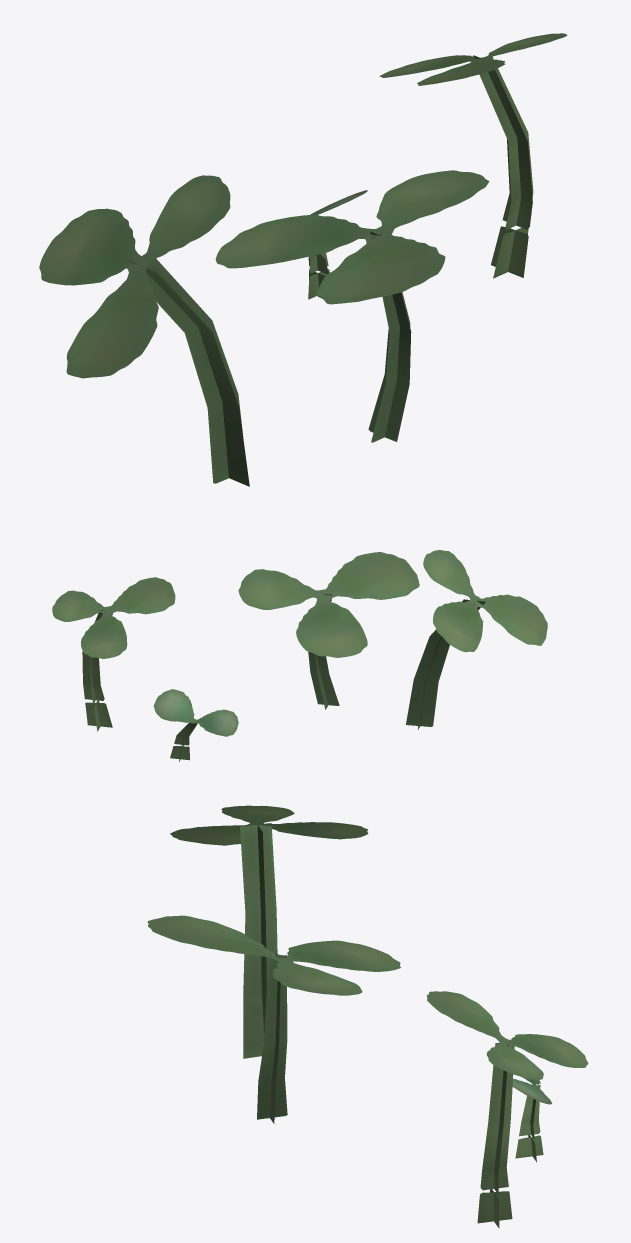
Rendered from pref_sm_beach_techclover02a_lv2.fbx.
3 renders of one model, top to bottom at view 1: azimuth 30°, elevation 25°; view 2: azimuth 150°, elevation 25°; view 3: azimuth 270°, elevation 25°, orthographic. The views are drawn at different scales.
Visible parts, largest first — view 1: pref_sm_beach_techclover02a_lv2; view 2: pref_sm_beach_techclover02a_lv2; view 3: pref_sm_beach_techclover02a_lv2.
Boxes of the visible parts, x1,y1,x2,y2 form: pref_sm_beach_techclover02a_lv2: (39, 33, 567, 486); pref_sm_beach_techclover02a_lv2: (52, 550, 547, 761); pref_sm_beach_techclover02a_lv2: (147, 805, 588, 1228).
Size of the model in its own units: 1.4 by 0.5966 by 1.14.
